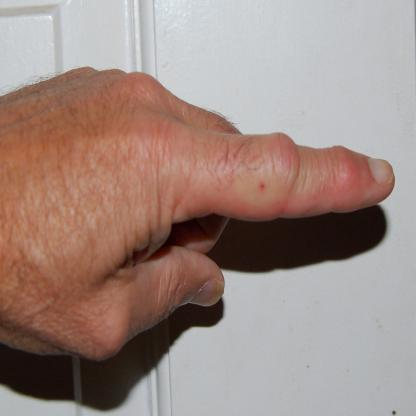Wasp: (229, 152, 304, 213)
